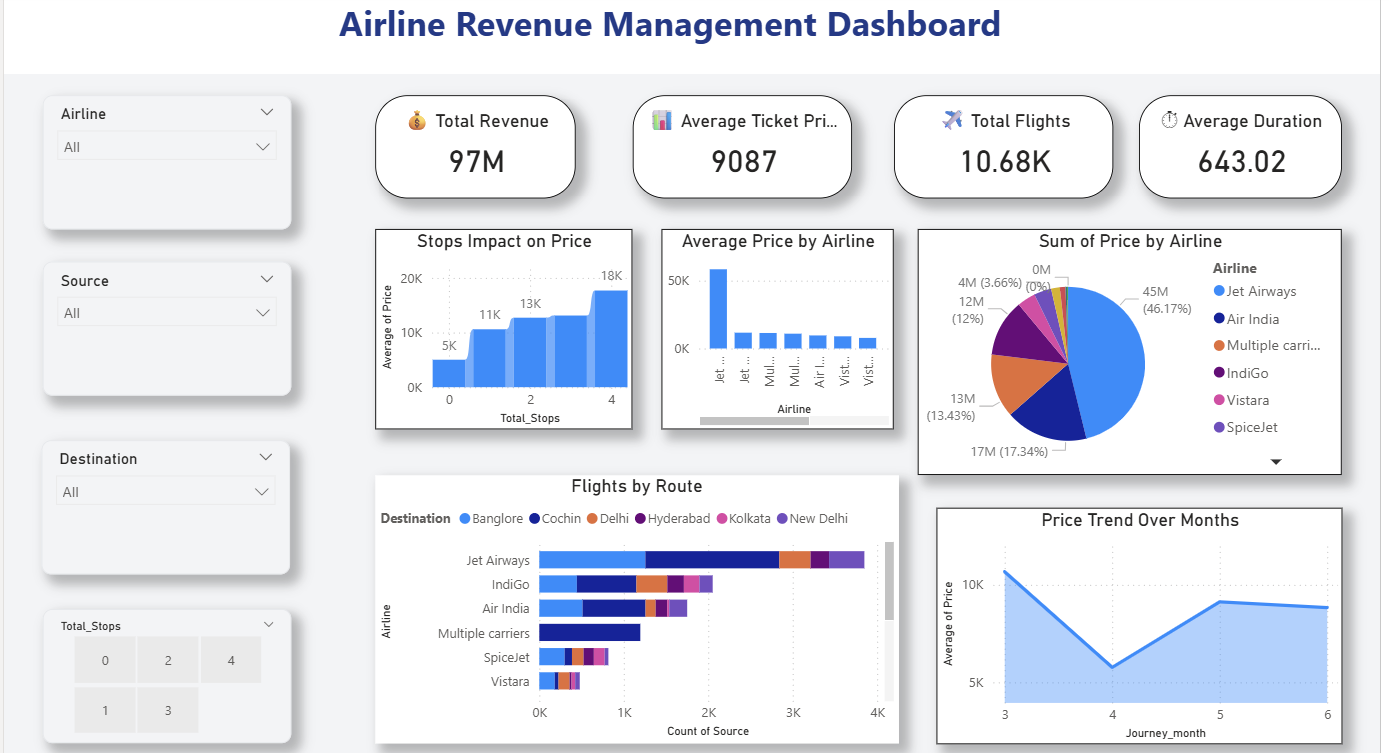

The page's visual inventory and layout, read from the dashboard file:
{"tool":"powerbi","page":{"name":"Page 1","canvas":[1280,720],"ordinal":0},"visuals":[{"type":"textbox","box":[0,0,1280,74.5],"z":0},{"type":"card","title":"💰 Total Revenue","fields":{"Values":["Sum(cleaned_airline_data.Price)"]},"box":[345.4,93.8,186.3,96.4],"z":1000},{"type":"card","title":"📊 Average Ticket Price","fields":{"Values":["Avg(cleaned_airline_data.Price)"]},"box":[584.5,93.8,204.3,96.4],"z":2000},{"type":"card","title":"     ✈️ Total Flights","fields":{"Values":["CountNonNull(cleaned_airline_data.Airline)"]},"box":[827.3,93.8,204.3,96.4],"z":3000},{"type":"card","title":"⏱ Average Duration","fields":{"Values":["Avg(cleaned_airline_data.Duration)"]},"box":[1056.4,93.8,188.9,96.4],"z":4000},{"type":"clusteredColumnChart","title":"Average Price by Airline","fields":{"Category":["cleaned_airline_data.Airline"],"Y":["Avg(cleaned_airline_data.Price)"]},"box":[611.2,218.5,215.9,186.3],"z":5000},{"type":"columnChart","title":"Stops Impact on Price","fields":{"Category":["cleaned_airline_data.Total_Stops"],"Y":["Avg(cleaned_airline_data.Price)"]},"box":[345.1,218.5,239,186.3],"z":6000},{"type":"barChart","title":"Flights by Route","fields":{"Series":["cleaned_airline_data.Destination"],"Y":["CountNonNull(cleaned_airline_data.Source)"],"Category":["cleaned_airline_data.Airline"]},"box":[345.7,447.2,487.1,249.3],"z":7000},{"type":"lineChart","title":"Price Trend Over Months","fields":{"Category":["cleaned_airline_data.Journey_month"],"Y":["Avg(cleaned_airline_data.Price)"]},"box":[867.5,478.1,377.8,219.8],"z":8000},{"type":"slicer","title":"Airline","fields":{"Values":["cleaned_airline_data.Airline"]},"box":[36,93.8,231.3,124.7],"z":9000},{"type":"slicer","fields":{"Values":["cleaned_airline_data.Source"]},"box":[36,249.3,231.3,124.7],"z":10000},{"type":"slicer","fields":{"Values":["cleaned_airline_data.Destination"]},"box":[34.7,415.1,231.3,124.7],"z":11000},{"type":"slicer","fields":{"Values":["cleaned_airline_data.Total_Stops"]},"box":[36,571.9,231.3,124.7],"z":12000},{"type":"pieChart","fields":{"Category":["cleaned_airline_data.Airline"],"Y":["Sum(cleaned_airline_data.Price)"]},"box":[867.4,218.6,377.9,238.4],"z":13000}]}

Visuals, with their boxes in screenshot pixels (x1, y1, x2, y2):
textbox: 7 0 1375 72
"💰 Total Revenue" card: 376 93 575 196
"📊 Average Ticket Price" card: 632 93 850 196
"     ✈️ Total Flights" card: 891 93 1109 196
"⏱ Average Duration" card: 1136 93 1338 196
"Average Price by Airline" clusteredColumnChart: 660 226 891 425
"Stops Impact on Price" columnChart: 376 226 631 425
"Flights by Route" barChart: 377 471 897 737
"Price Trend Over Months" lineChart: 934 504 1338 738
"Airline" slicer: 46 93 293 226
slicer - cleaned_airline_data.Source: 46 259 293 392
slicer - cleaned_airline_data.Destination: 44 436 291 569
slicer - cleaned_airline_data.Total_Stops: 46 604 293 737
pieChart - cleaned_airline_data.Airline x Sum(cleaned_airline_data.Price): 934 226 1338 481
